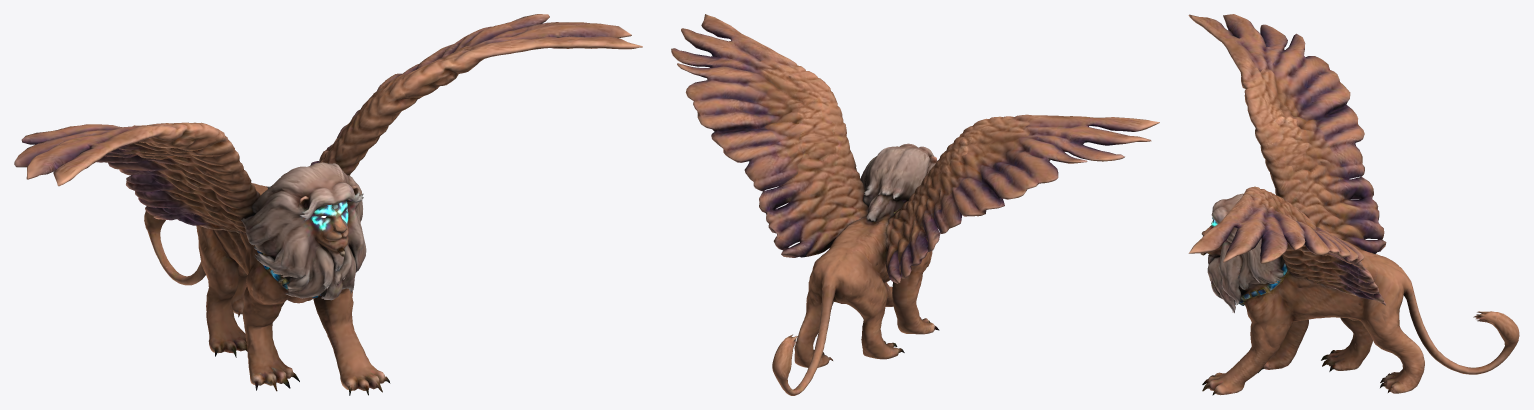
Rendered from MZ4250 - Androsphinx.glb.
The picture shows the model from 3 angles, left to right: view 1: azimuth 30°, elevation 25°; view 2: azimuth 150°, elevation 25°; view 3: azimuth 270°, elevation 25°; orthographic projection. The views are drawn at different scales.
Parts seen in each view (by area): view 1: Androsphinx sculpted.001; view 2: Androsphinx sculpted.001; view 3: Androsphinx sculpted.001.
Part boxes in pixels (x1,y1,x2,y2): Androsphinx sculpted.001: (14,14,642,395); Androsphinx sculpted.001: (671,14,1159,395); Androsphinx sculpted.001: (1188,14,1519,395).
Size of the model in its own units: 44.82 by 21.36 by 25.72.
1 material, 1 textured.
